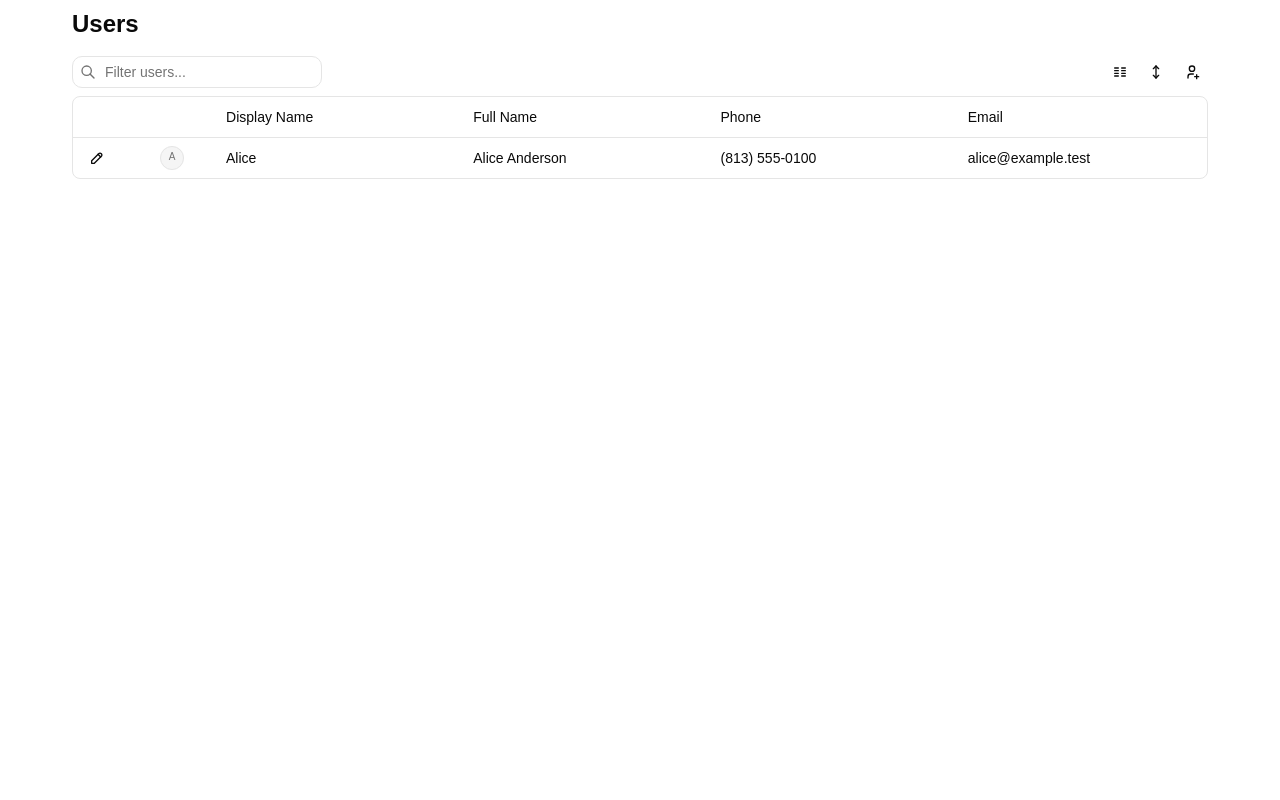
it: UsersPage › opens the edit modal prefilled, with Save disabled until something changes
Expected: the text "Alice" is shown, [218,137,465,178]
Click the button named "Edit user" at [97, 158], box [81,142,113,174]
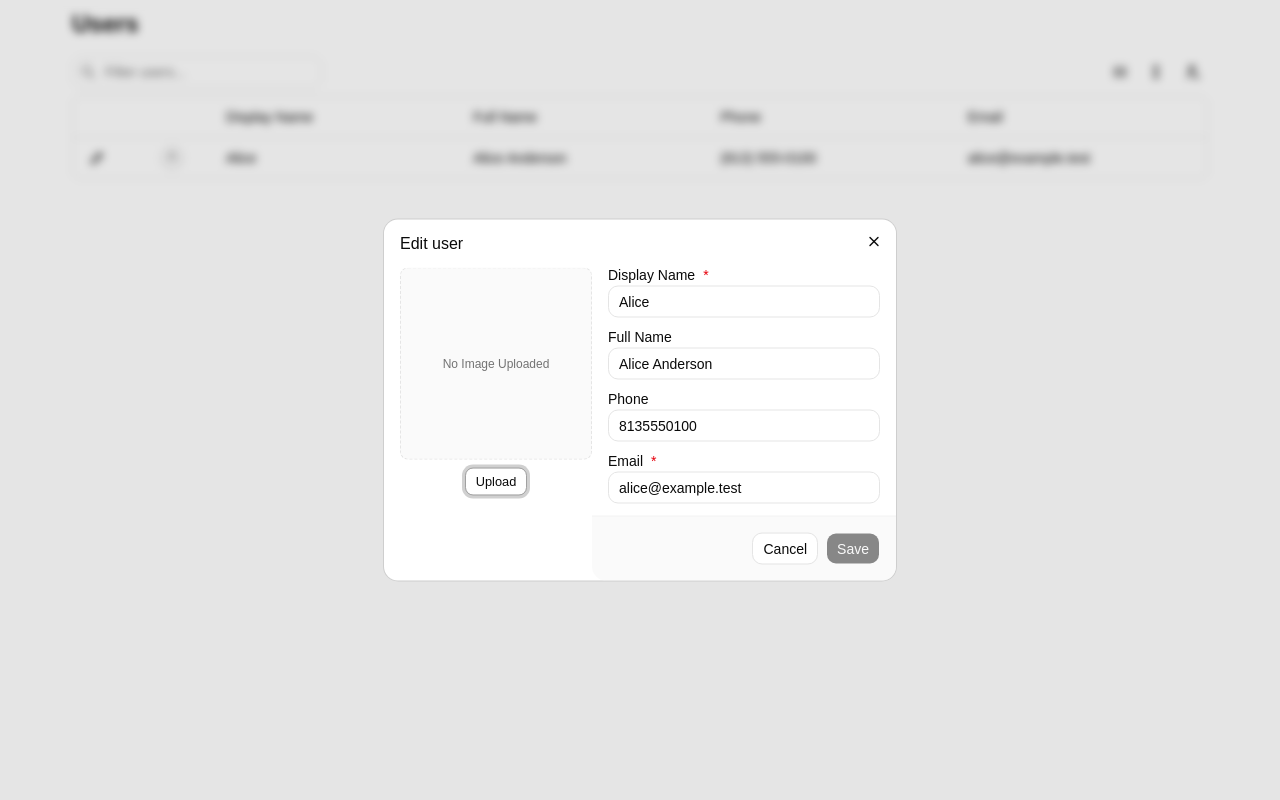
Result: the heading "Edit user" is shown at [400,234,463,252]
Result: the field labelled "Display Name *" holds "Alice"
Result: the button "Save" is disabled at [826,532,880,564]
Type "X" into the field labelled "Display Name *" at [744, 302], box [608,286,880,318]
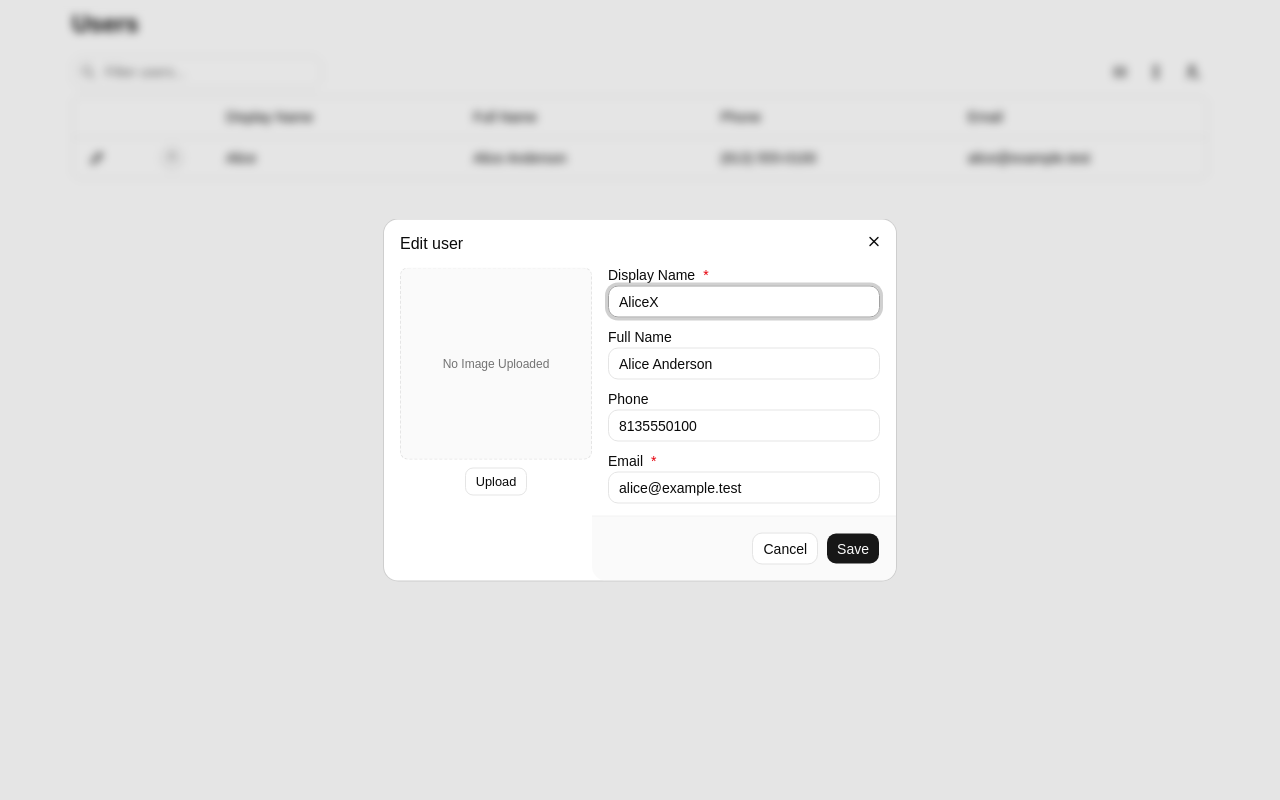
Result: the button "Save" is enabled at [826,532,880,564]
